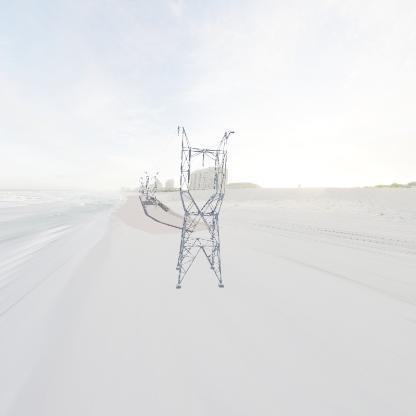tower: (173, 123, 239, 289)
